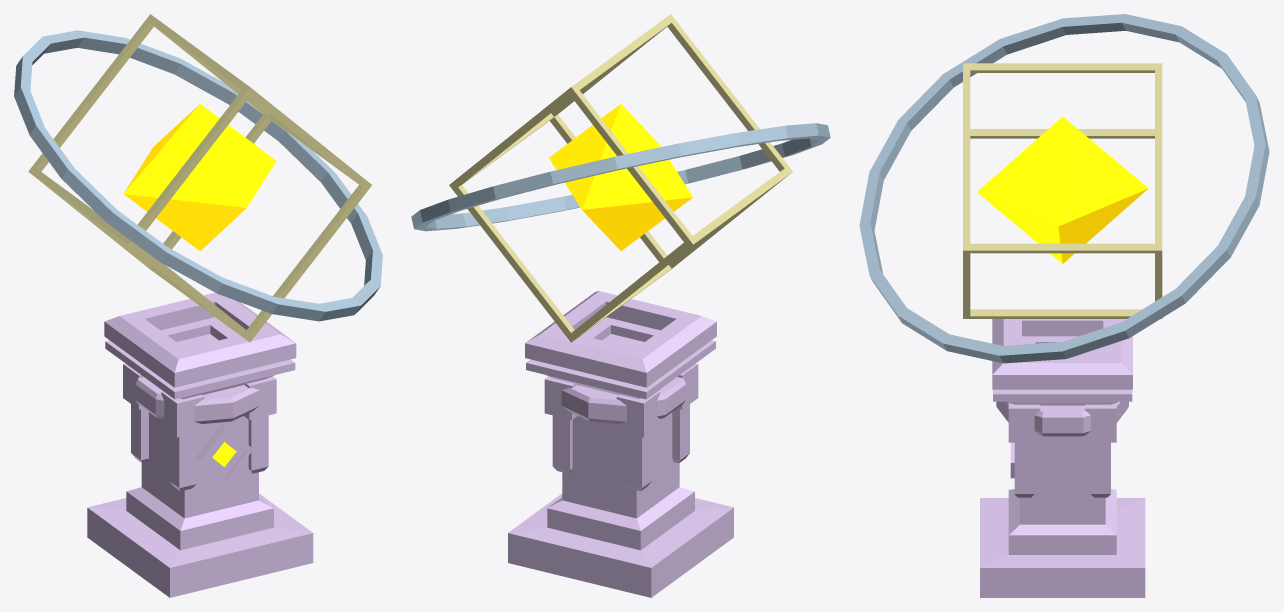
The model's file is 菱形遗迹.fbx.
3 renders of one model, left to right at view 1: azimuth 30°, elevation 25°; view 2: azimuth 150°, elevation 25°; view 3: azimuth 270°, elevation 25°, orthographic.
Visible parts, largest first — view 1: Plane, Cylinder.002, Cube.010, Cube.009, Cube.005, Circle.002, Cube.006, Cube, Cube.007; view 2: Plane, Cube.010, Cylinder.002, Cube.009, Cube.007, Circle.002, Cube.008, Cube.005; view 3: Plane, Cylinder.002, Cube.009, Cube.010, Cube.006, Cube.008, Circle.002.
Boxes of the visible parts, left/top/right/bottom form: Plane: left=87, top=292, right=313, bottom=597; Cylinder.002: left=14, top=30, right=382, bottom=321; Cube.010: left=28, top=14, right=371, bottom=342; Cube.009: left=123, top=104, right=276, bottom=251; Cube.005: left=161, top=391, right=204, bottom=491; Circle.002: left=135, top=377, right=259, bottom=423; Cube.006: left=244, top=376, right=276, bottom=473; Cube: left=196, top=424, right=253, bottom=484; Cube.007: left=123, top=363, right=148, bottom=463; Plane: left=508, top=291, right=733, bottom=597; Cube.010: left=449, top=14, right=792, bottom=342; Cylinder.002: left=411, top=123, right=830, bottom=231; Cube.009: left=549, top=104, right=692, bottom=250; Cube.007: left=616, top=391, right=659, bottom=491; Circle.002: left=561, top=377, right=686, bottom=423; Cube.008: left=544, top=376, right=577, bottom=473; Cube.005: left=672, top=363, right=698, bottom=463; Plane: left=980, top=319, right=1145, bottom=597; Cylinder.002: left=859, top=14, right=1269, bottom=363; Cube.009: left=977, top=116, right=1148, bottom=263; Cube.010: left=963, top=63, right=1162, bottom=318; Cube.006: left=1008, top=403, right=1040, bottom=497; Cube.008: left=1085, top=403, right=1116, bottom=497; Circle.002: left=996, top=401, right=1128, bottom=436.
Size of the model in its own units: 6261 by 8903 by 6623.
